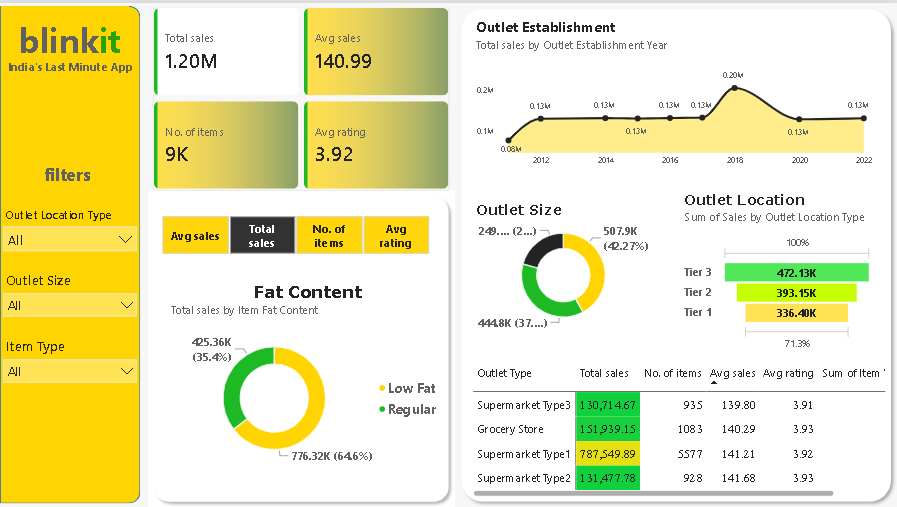

Layout of this report page (visuals, bound fields, positions):
{"tool":"powerbi","page":{"name":"Page 1","canvas":[1280,720],"ordinal":0},"visuals":[{"type":"shape","box":[0,3.6,200.2,709.7],"z":0},{"type":"textbox","box":[0,19.7,200.2,93],"z":1000},{"type":"textbox","box":[0,80.4,200.2,32.2],"z":2000},{"type":"cardVisual","fields":{"Data":["BlinkIT Grocery Data.Total sales","BlinkIT Grocery Data.Avg sales","BlinkIT Grocery Data.No. of items","BlinkIT Grocery Data.Avg rating"]},"box":[219.9,7.2,420.1,259.2],"z":3000},{"type":"shape","box":[210.9,268.2,438,452.3],"z":4000},{"type":"donutChart","title":"Fat Content ","fields":{"Y":["BlinkIT Grocery Data.Total sales"],"Category":["BlinkIT Grocery Data.Item Fat Content"]},"box":[228.8,382.6,420.1,296.8],"z":5000},{"type":"slicer","fields":{"Values":["matrix.matrix"]},"box":[210.9,302.1,420.1,57.2],"z":6000},{"type":"shape","box":[648.9,0,631.1,720.4],"z":7000},{"type":"lineChart","title":"Outlet Establishment","fields":{"Y":["BlinkIT Grocery Data.Total sales"],"Category":["BlinkIT Grocery Data.Outlet Establishment Year"]},"box":[663.2,3.6,597.1,248.5],"z":8000},{"type":"donutChart","title":"Outlet Size","fields":{"Y":["BlinkIT Grocery Data.Total sales"],"Category":["BlinkIT Grocery Data.Outlet Size"]},"box":[663.2,266.4,280.7,218.1],"z":9000},{"type":"funnel","title":"Outlet Location","fields":{"Y":["Sum(BlinkIT Grocery Data.Sales)"],"Category":["BlinkIT Grocery Data.Outlet Location Type"]},"box":[960,252.1,300.3,259.2],"z":10000},{"type":"pivotTable","fields":{"Values":["BlinkIT Grocery Data.Total sales","BlinkIT Grocery Data.No. of items","BlinkIT Grocery Data.Avg sales","BlinkIT Grocery Data.Avg rating","Sum(BlinkIT Grocery Data.Item Visibility)"],"Rows":["BlinkIT Grocery Data.Outlet Type"]},"box":[659.7,495.2,620.3,225.3],"z":11000},{"type":"slicer","fields":{"Values":["BlinkIT Grocery Data.Outlet Location Type"]},"box":[0,291.4,200.2,84],"z":12000},{"type":"slicer","fields":{"Values":["BlinkIT Grocery Data.Outlet Size"]},"box":[0,382.6,200.2,80.4],"z":13000},{"type":"slicer","fields":{"Values":["BlinkIT Grocery Data.Item Type"]},"box":[0,477.3,200.2,67.9],"z":14000},{"type":"textbox","box":[62.6,228.8,73.3,37.5],"z":14001}]}

Visuals, with their boxes in screenshot pixels (x1, y1, x2, y2), scaled from the page's 1280x720 canvas onto the 897x507 screenshot:
shape: (0, 3, 140, 502)
textbox: (0, 14, 140, 79)
textbox: (0, 57, 140, 79)
cardVisual - BlinkIT Grocery Data.Total sales x BlinkIT Grocery Data.Avg sales: (154, 5, 448, 188)
shape: (148, 189, 455, 506)
"Fat Content " donutChart: (160, 269, 455, 478)
slicer - matrix.matrix: (148, 213, 442, 253)
shape: (455, 0, 896, 506)
"Outlet Establishment" lineChart: (465, 3, 883, 178)
"Outlet Size" donutChart: (465, 188, 661, 341)
"Outlet Location" funnel: (673, 178, 883, 360)
pivotTable - BlinkIT Grocery Data.Total sales x BlinkIT Grocery Data.No. of items: (462, 349, 896, 506)
slicer - BlinkIT Grocery Data.Outlet Location Type: (0, 205, 140, 264)
slicer - BlinkIT Grocery Data.Outlet Size: (0, 269, 140, 326)
slicer - BlinkIT Grocery Data.Item Type: (0, 336, 140, 384)
textbox: (44, 161, 95, 188)
